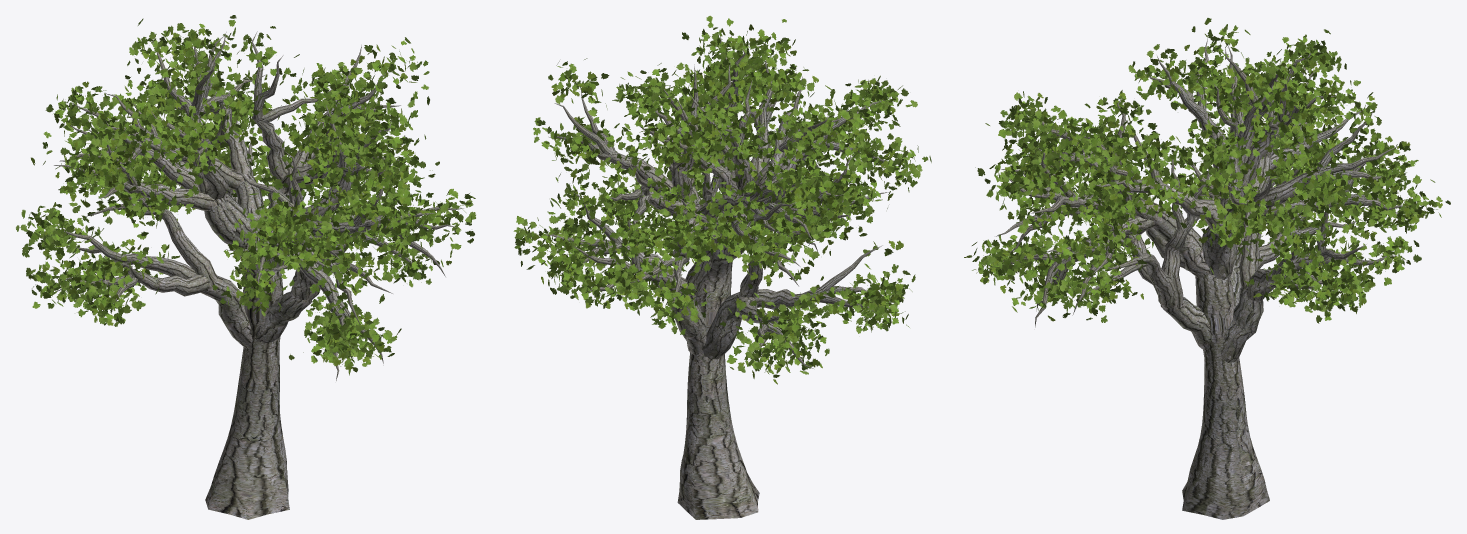
3 renders of one model, left to right at view 1: azimuth 30°, elevation 25°; view 2: azimuth 150°, elevation 25°; view 3: azimuth 270°, elevation 25°, orthographic. The views are drawn at different scales.
Visible parts, largest first — view 1: Oak foliage cards, Oak_EasyTree_V017_Proof; view 2: Oak foliage cards, Oak_EasyTree_V017_Proof; view 3: Oak foliage cards, Oak_EasyTree_V017_Proof.
Boxes of the visible parts, left/top/right/bottom form: Oak foliage cards: left=16, top=15, right=475, bottom=375; Oak_EasyTree_V017_Proof: left=54, top=31, right=463, bottom=519; Oak foliage cards: left=513, top=15, right=931, bottom=384; Oak_EasyTree_V017_Proof: left=543, top=36, right=890, bottom=519; Oak foliage cards: left=964, top=18, right=1450, bottom=323; Oak_EasyTree_V017_Proof: left=996, top=37, right=1408, bottom=519.
Size of the model in its own units: 7 by 7.78 by 7.73.
2 materials, 2 textured.
